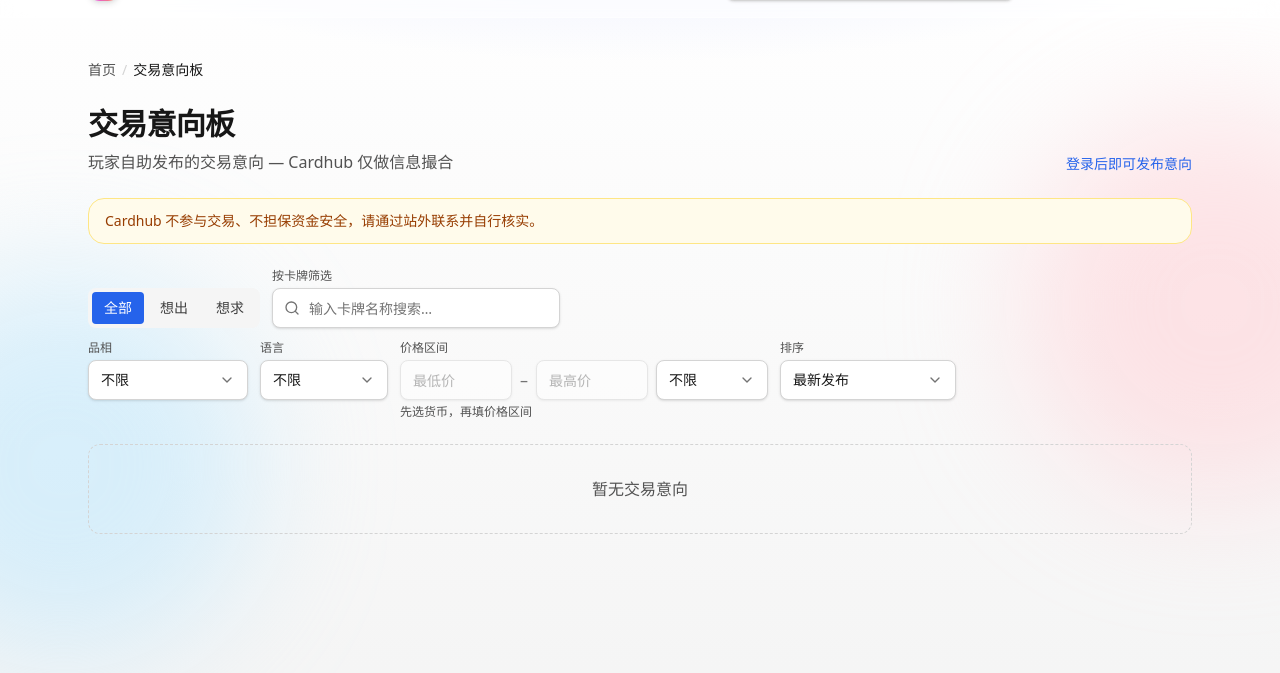
Test: TradeListPage price filters › keeps a currency the user picked when returning to newest
Step 1. Click the dropdown named "货币" → coordinates (712, 380), box [656,360,768,400]
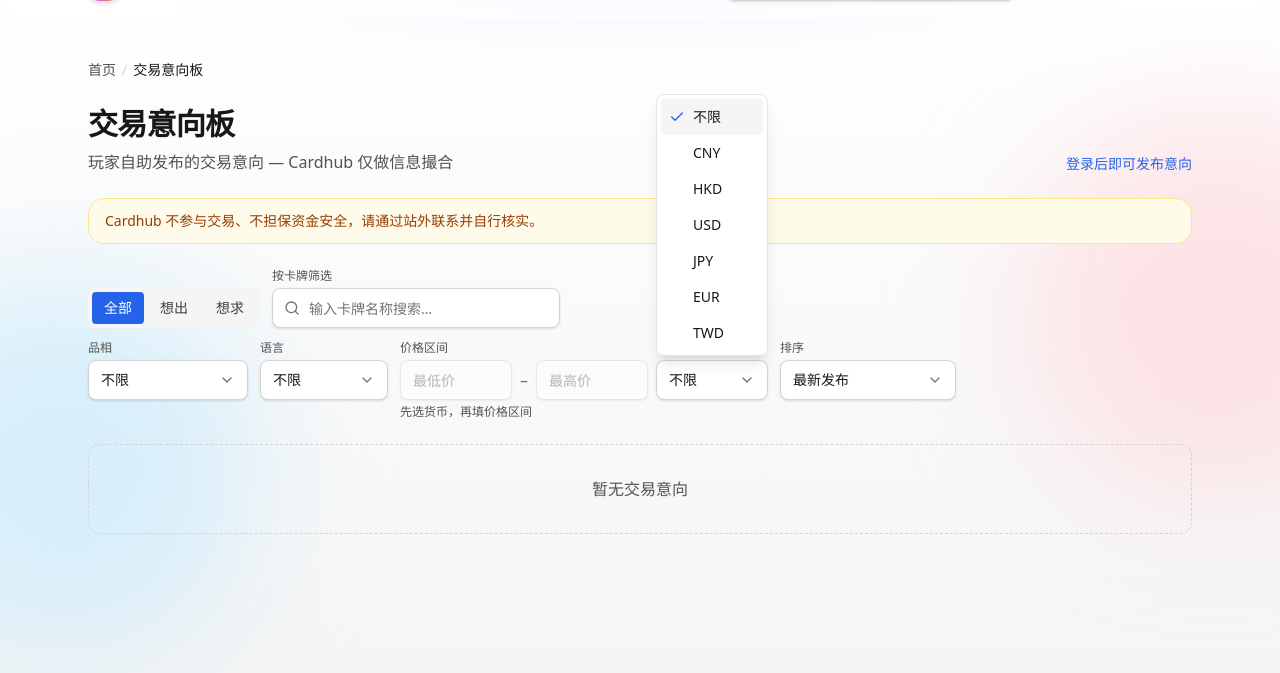
Step 2. Press Arrowdown Enter
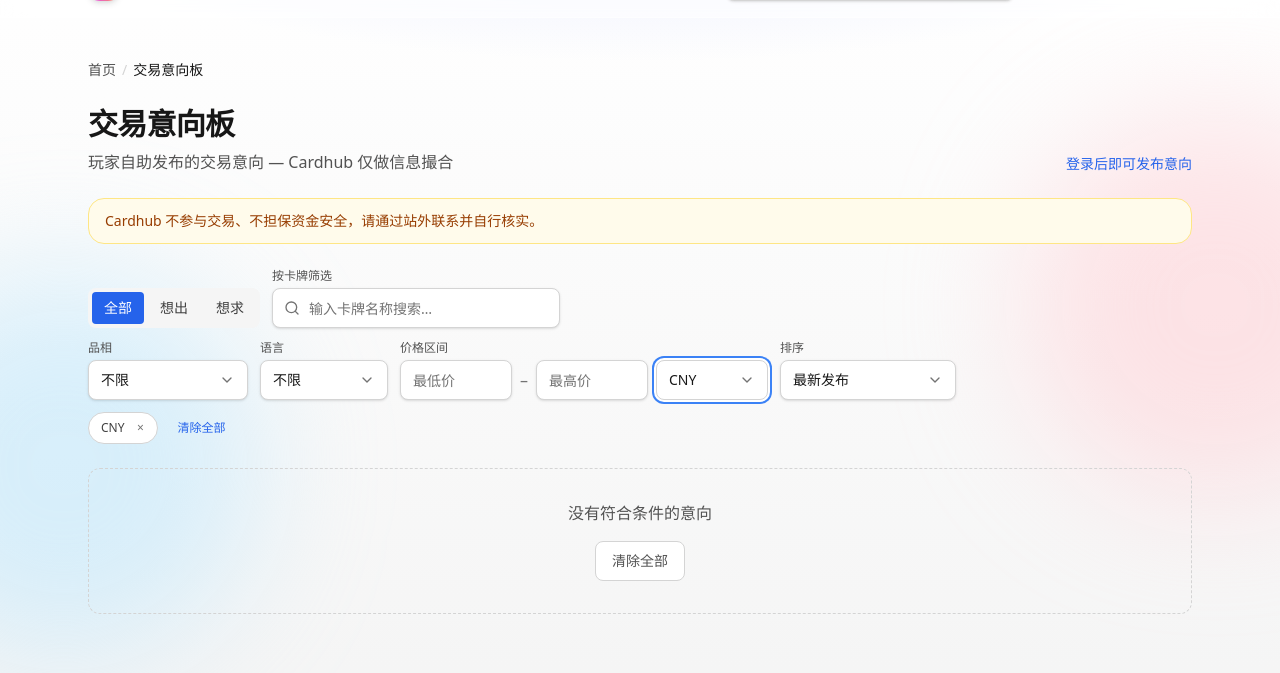
Step 3. Click the dropdown labelled "最新发布" → coordinates (868, 380), box [780,360,956,400]
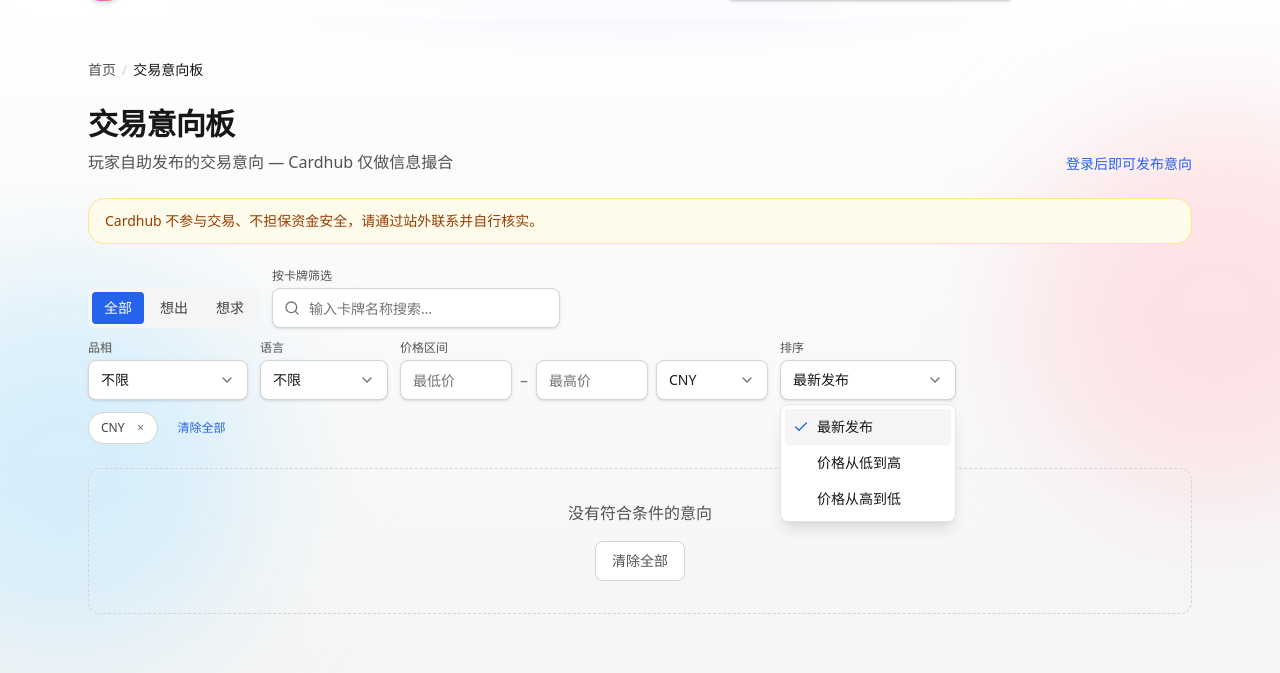
Step 4. Press Arrowdown Enter
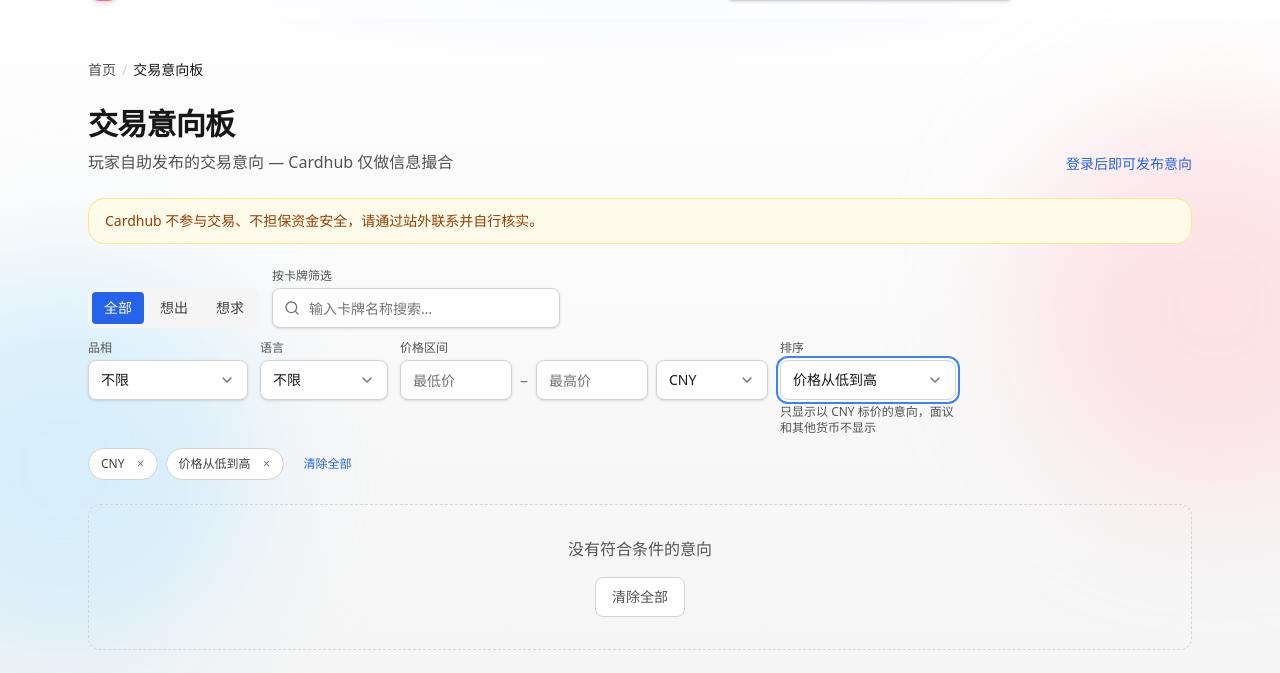
Step 5. Click the dropdown labelled "价格从低到高" → coordinates (868, 380), box [780,360,956,400]
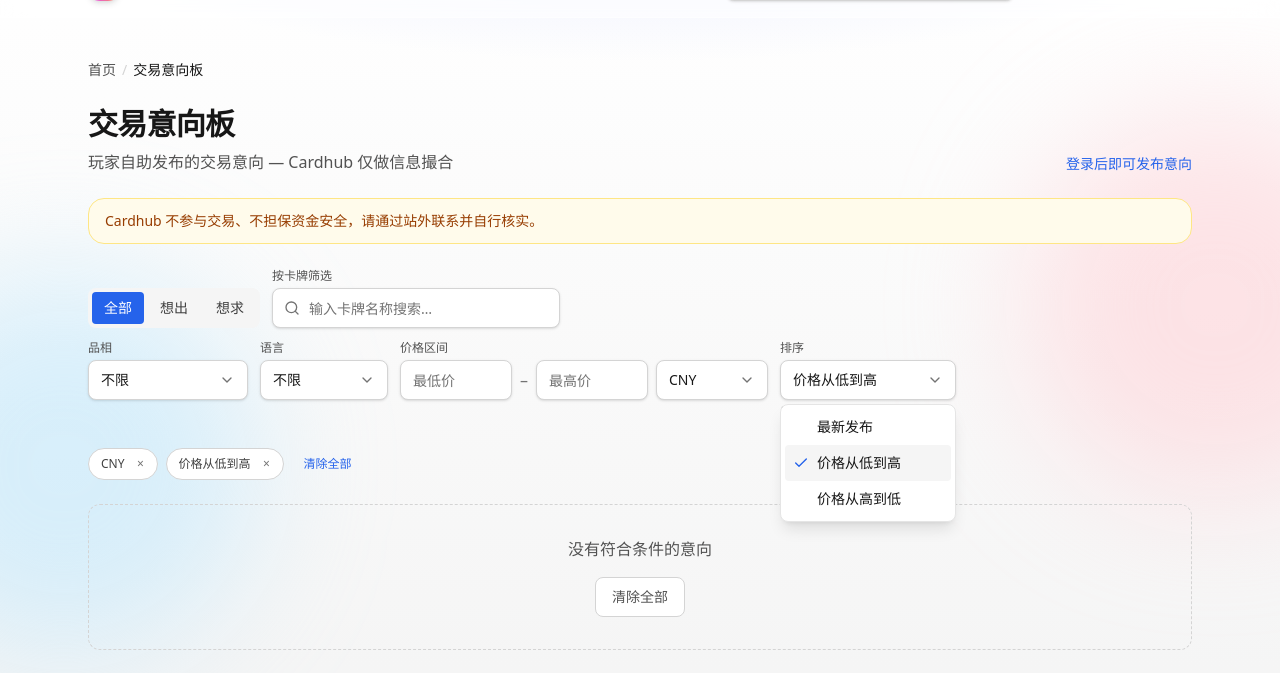
Step 6. Press Arrowup Enter
(page scrolled)
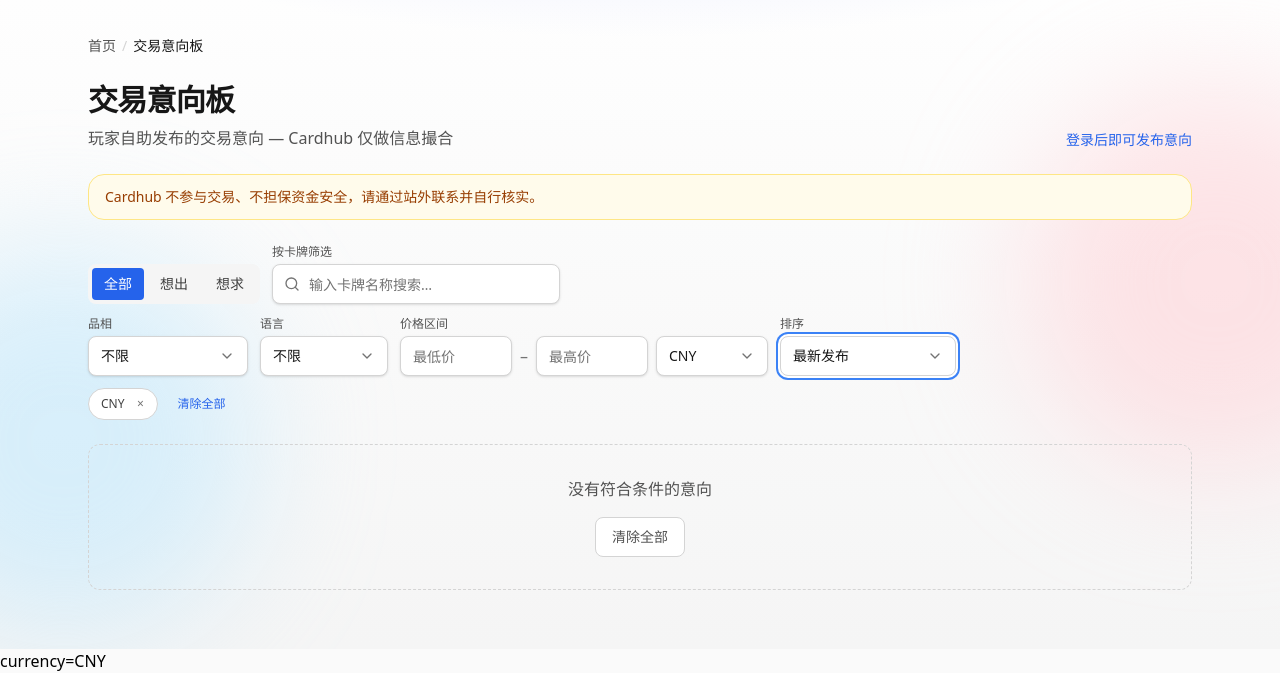
expect the text named "search" reads "currency=CNY": met, box [0,650,106,672]
